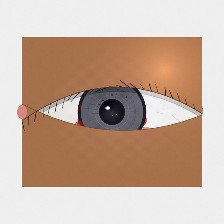hemorrhage_spot: (65, 82, 160, 158)
